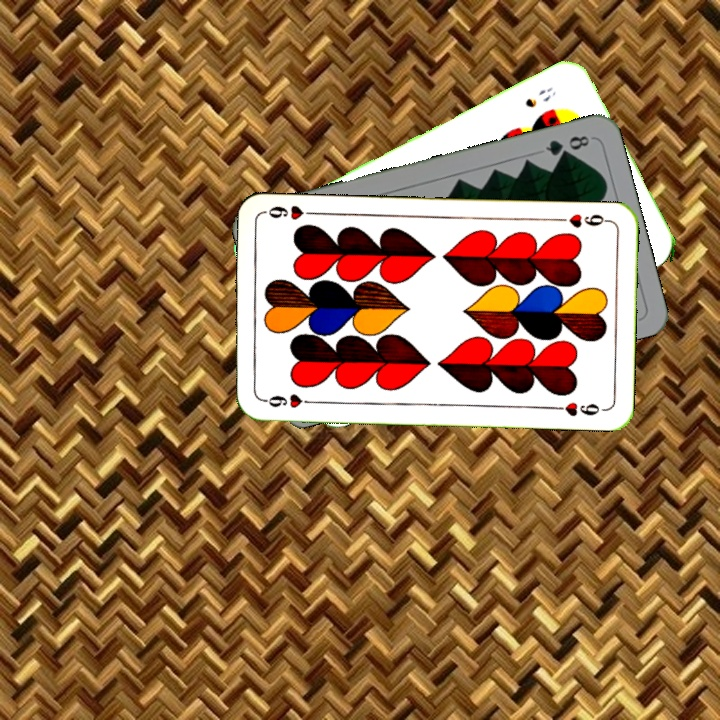G8: (541, 131, 592, 159)
H9: (553, 209, 612, 230), (258, 390, 317, 411)
S8: (521, 83, 559, 111)
